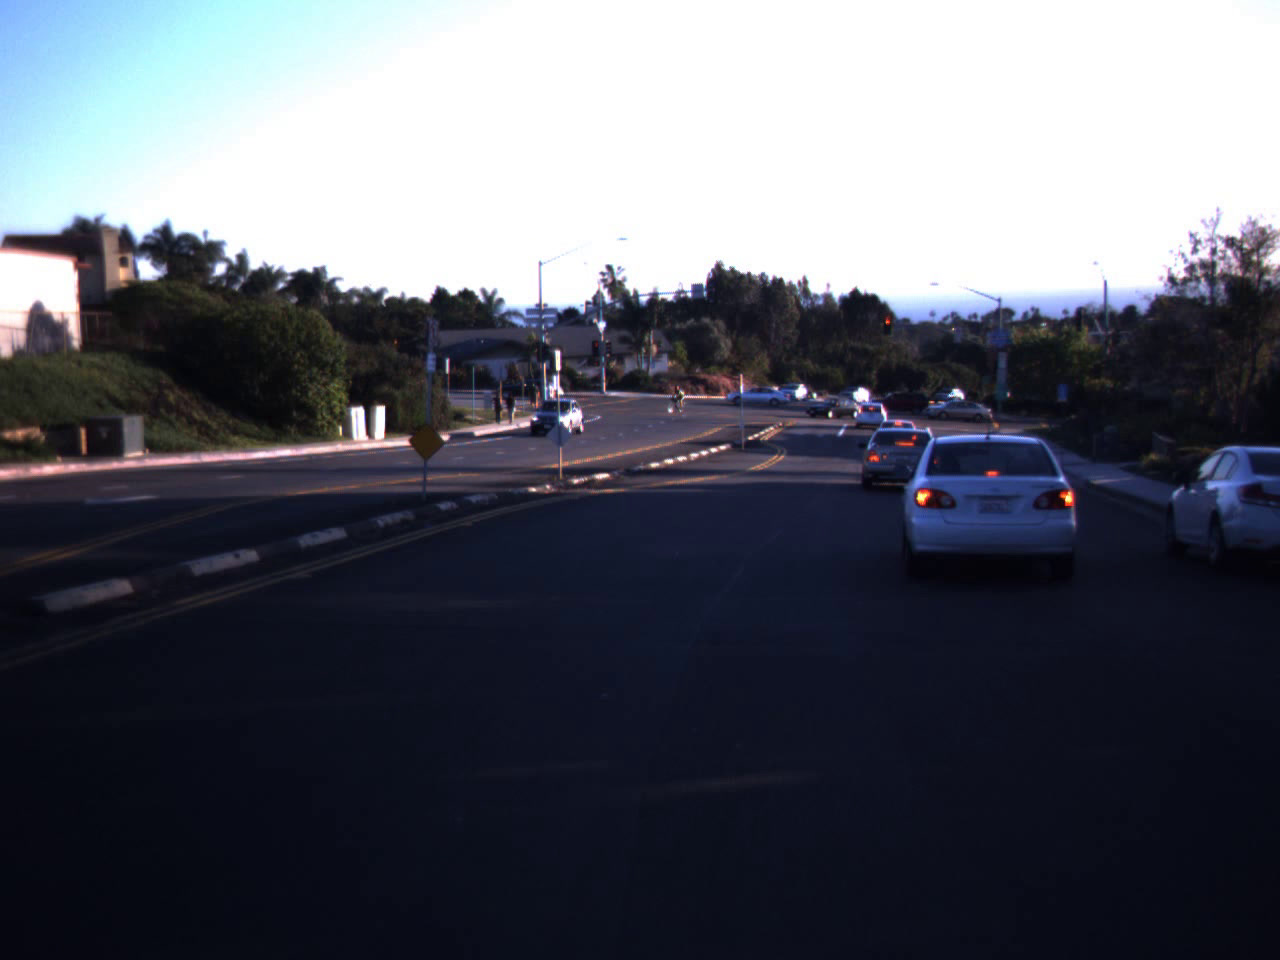stop: (882, 318, 894, 336)
